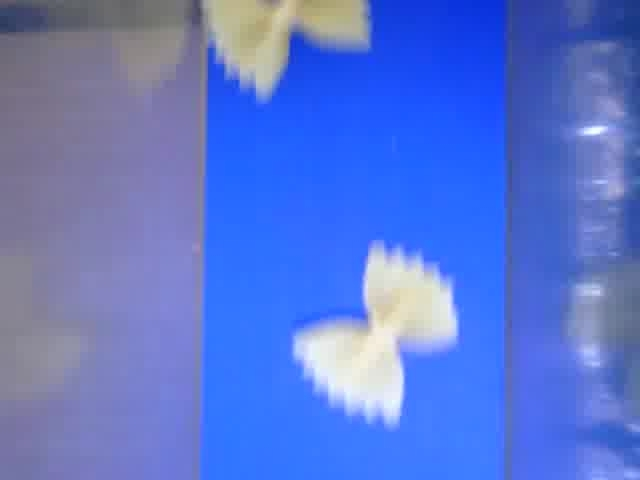farfalle: (292, 239, 461, 425), (204, 1, 372, 97)
